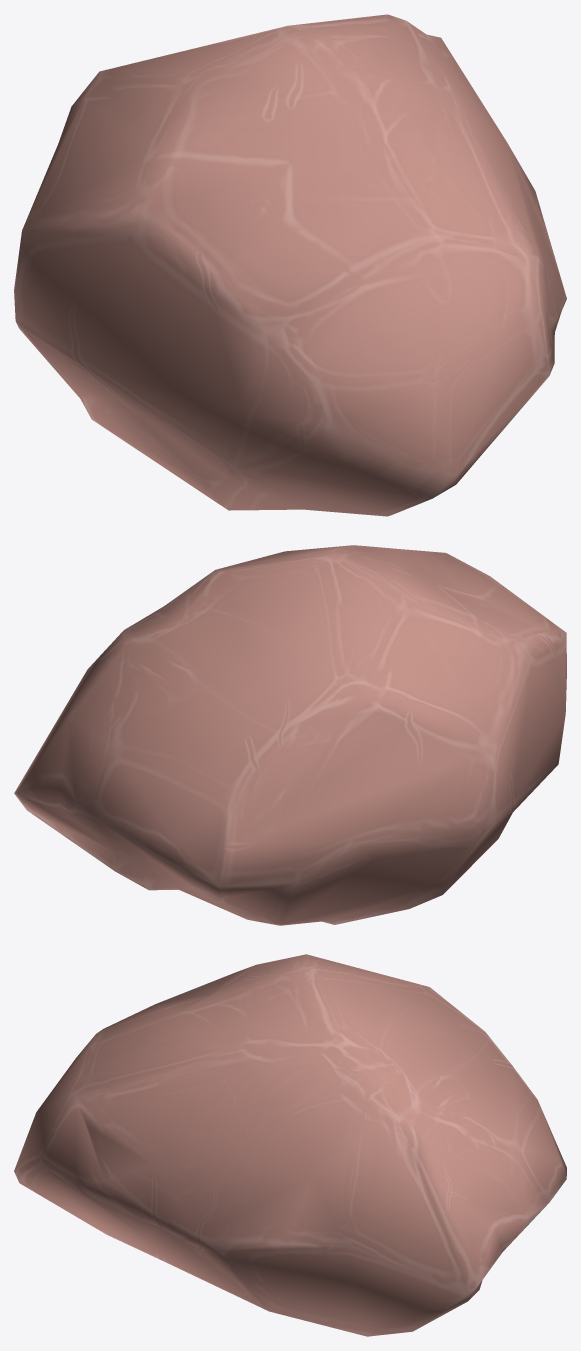
Rendered from Rock_For_Unity.fbx.
3 renders of one model, top to bottom at view 1: azimuth 30°, elevation 25°; view 2: azimuth 150°, elevation 25°; view 3: azimuth 270°, elevation 25°, orthographic. The views are drawn at different scales.
Parts seen in each view (by area): view 1: Rock_LOD0; view 2: Rock_LOD0; view 3: Rock_LOD0.
Boxes of the visible parts, box(x1,y1,x2,y2) form: Rock_LOD0: box(14, 14, 566, 516); Rock_LOD0: box(14, 545, 566, 925); Rock_LOD0: box(14, 954, 566, 1336).
Size of what is drawn, in the model's own units: 222 by 267 by 171.
